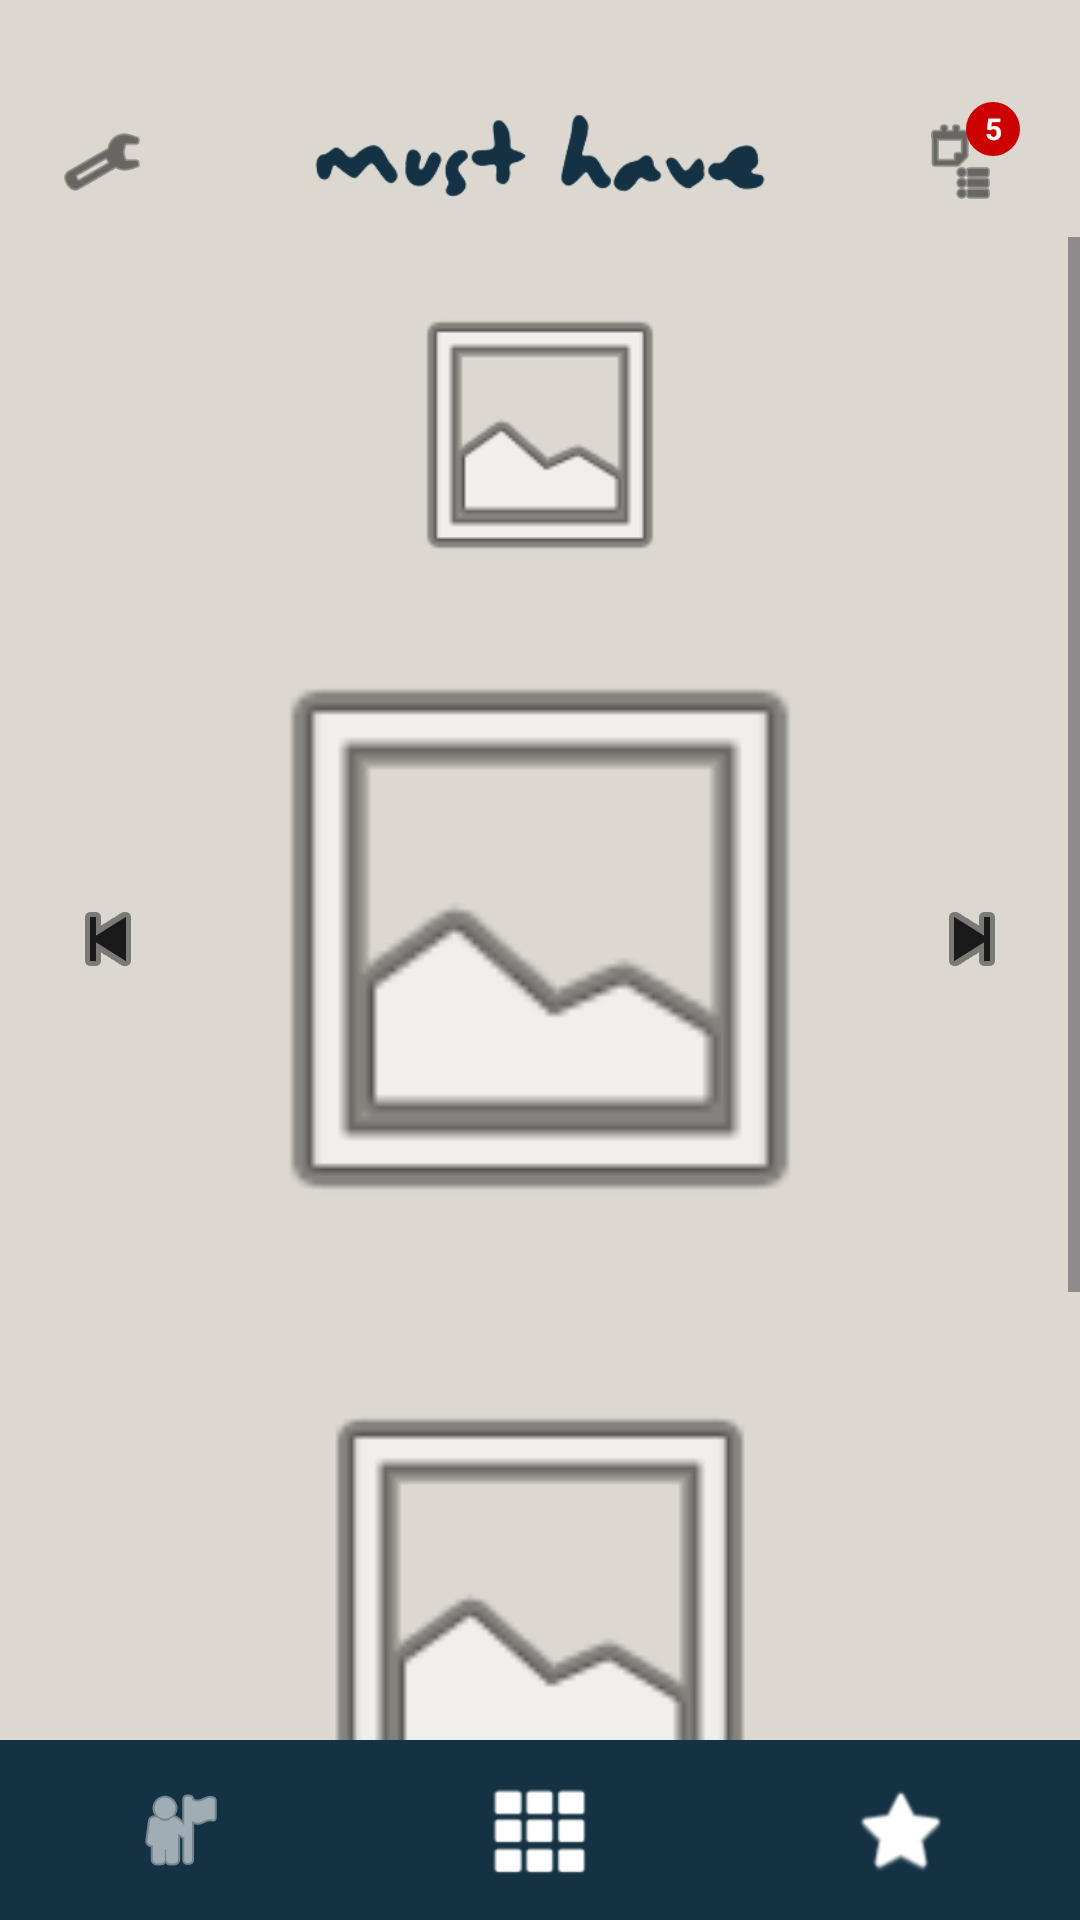

Icon click points for this 1080px x 1920px phone screenshot, format (x=x, y=y):
agenda: (x=966, y=159)
dialer: (x=539, y=1831)
myplaces: (x=181, y=1830)
next: (x=972, y=939)
preferences: (x=102, y=162)
previous: (x=108, y=939)
